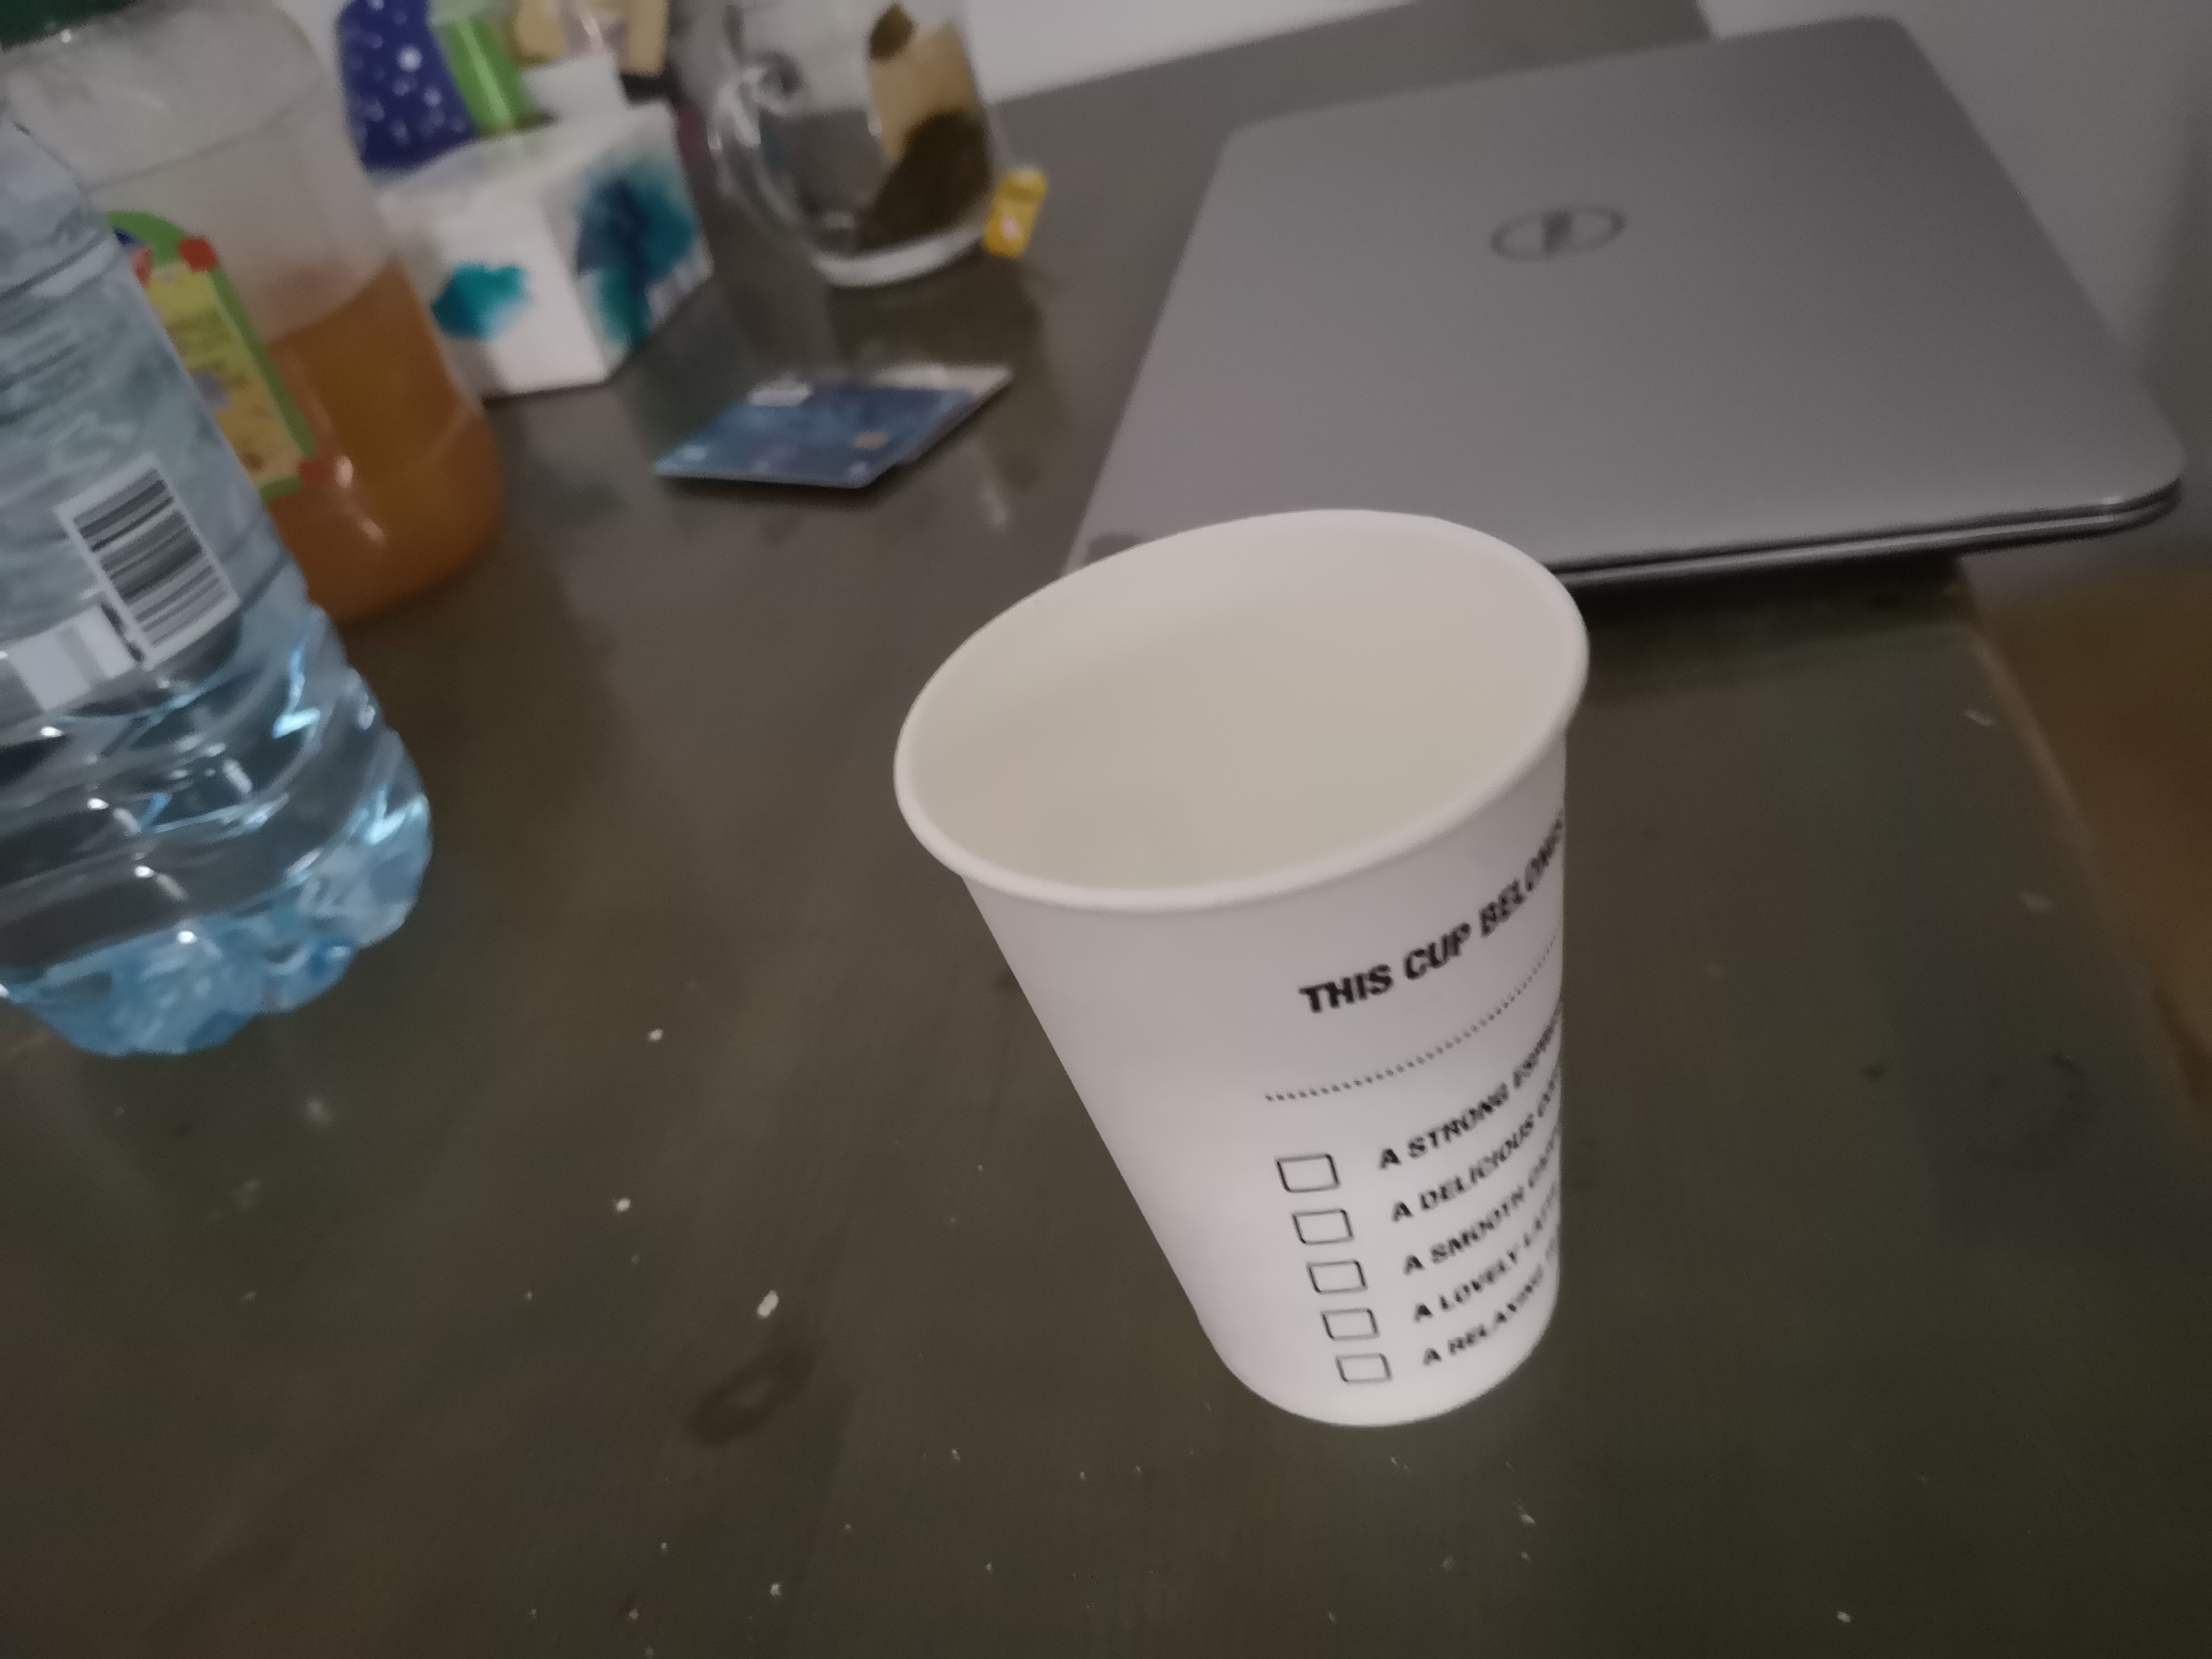cup: (874, 493, 1625, 1448)
plastic_bottle: (0, 12, 456, 1063)
